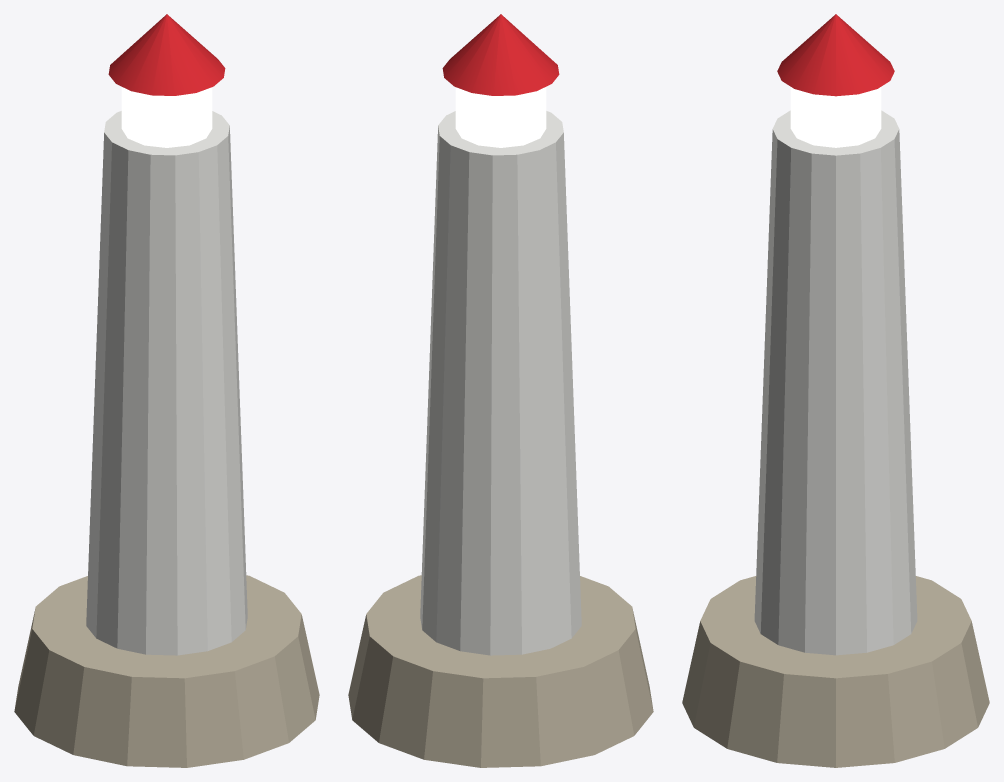
File: harbour_light.glb
3 renders of one model, left to right at view 1: azimuth 30°, elevation 25°; view 2: azimuth 150°, elevation 25°; view 3: azimuth 270°, elevation 25°, orthographic.
Visible parts, largest first — view 1: lighthouse; view 2: lighthouse; view 3: lighthouse.
Boxes of the visible parts, x1,y1,x2,y2 form: lighthouse: (14,14,319,767); lighthouse: (348,14,653,767); lighthouse: (682,14,989,767).
Size of the model in its own units: 6.8 by 16.8 by 6.8.
